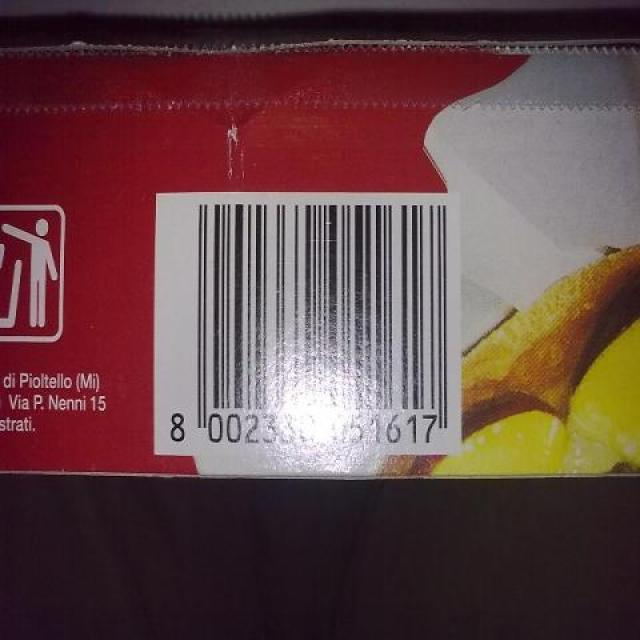Barcode: (155, 192, 462, 455)
